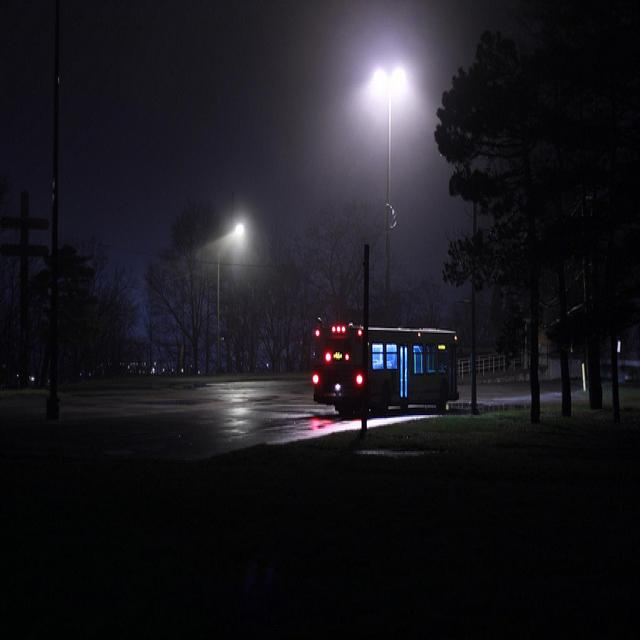Bus: (315, 303, 462, 427)
